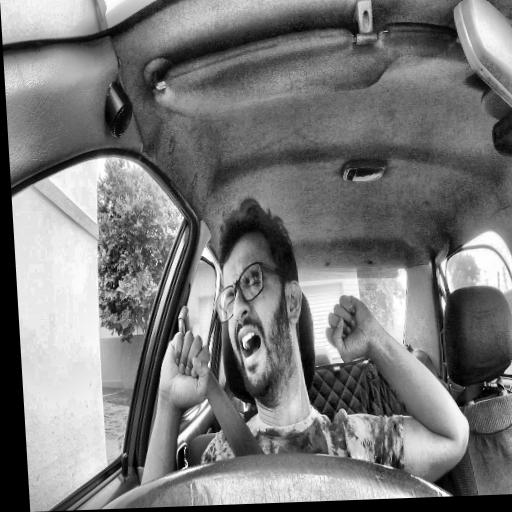drowsy: (209, 197, 309, 405)
